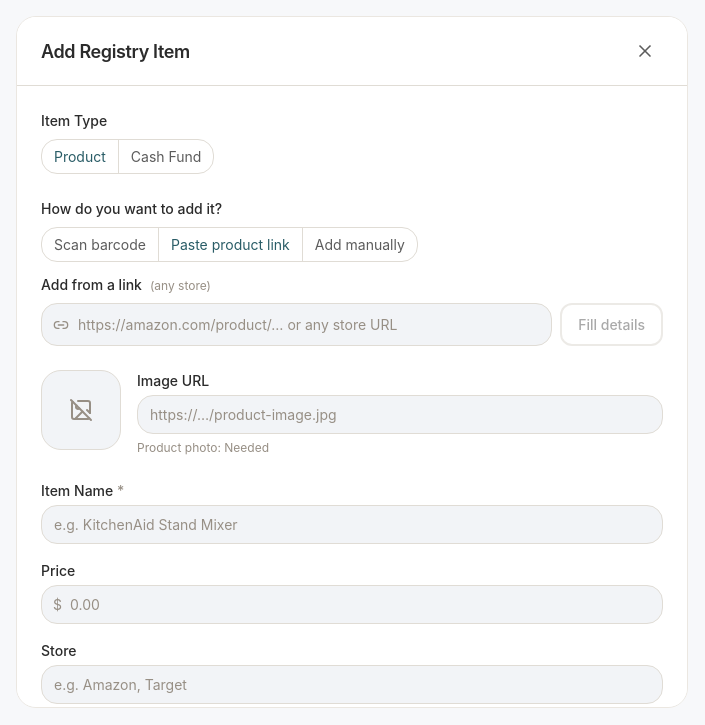
Test: RegistryItemForm › shows shared safe copy when saving a gift fails
Type "Dinnerware set" into the field with placeholder "e.g. KitchenAid Stand Mixer".
click(352, 524); type("Dinnerware set")  # box [41,505,663,544]
(page scrolled)
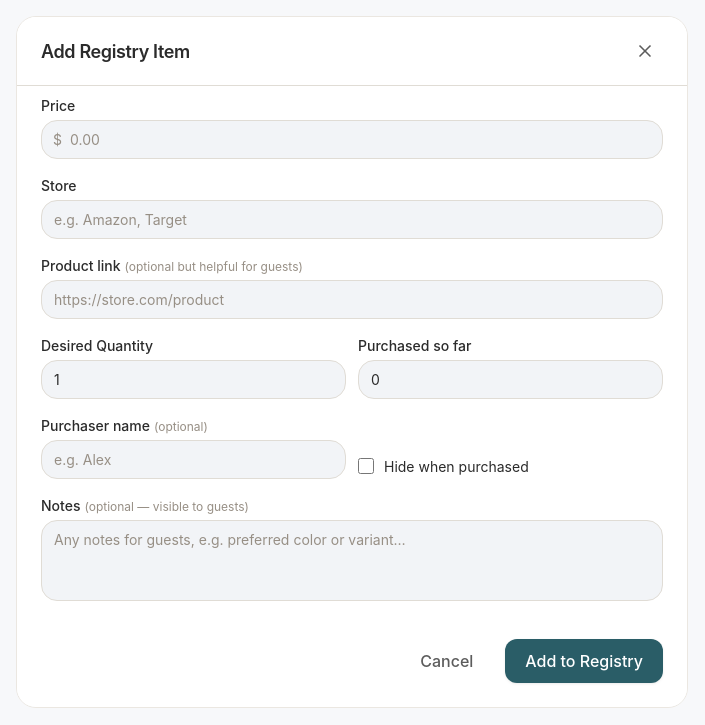
Click the button "Add to Registry".
click(584, 661)  # box [505,639,663,683]
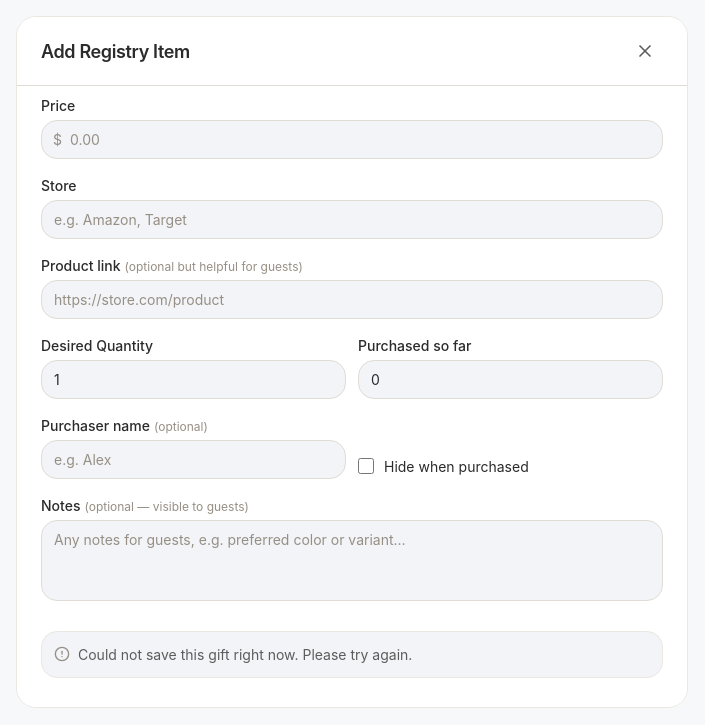
expect the text "Could not save this gift right now. Please try again." is shown: met, box [41,631,663,678]
